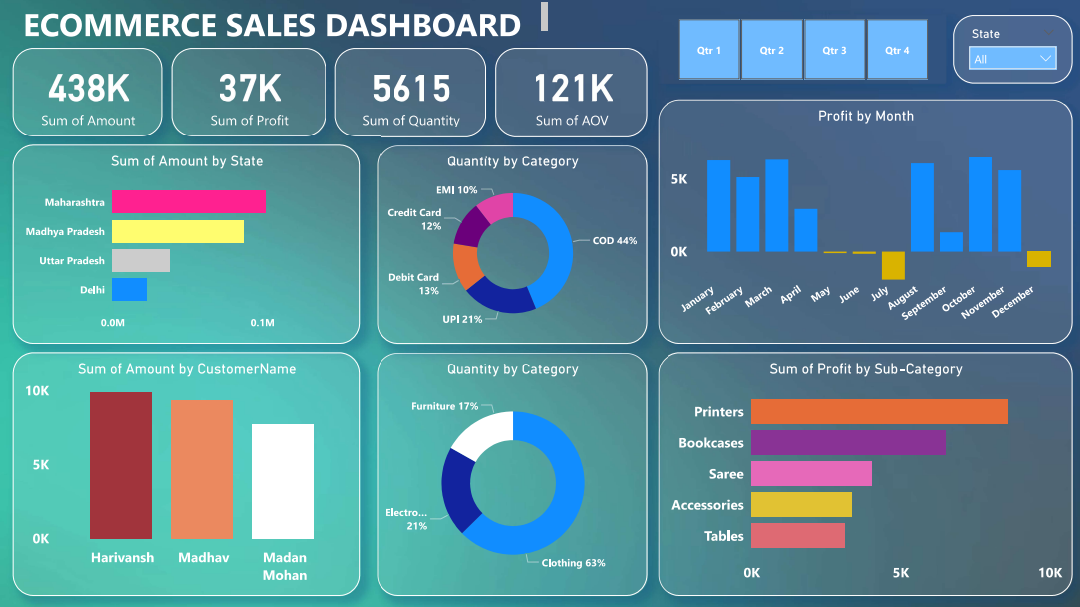

This screenshot's page, from the dashboard's own definition file:
{"tool":"powerbi","page":{"name":"Page 1","canvas":[1280,720],"ordinal":0},"visuals":[{"type":"textbox","box":[0,0,654.3,50],"z":0},{"type":"columnChart","title":"Profit by Month","fields":{"Category":["Orders.Order Date.Variation.Date Hierarchy.Month"],"Y":["Details.Profit"]},"box":[780,120,490,288.6],"z":1000},{"type":"barChart","fields":{"Category":["Details.Sub-Category"],"Y":["Details.Profit"]},"box":[780,418.6,490,288.6],"z":2000},{"type":"donutChart","title":"Quantity by Category","fields":{"Category":["Details.Category"],"Y":["Details.Quantity"]},"box":[447.1,418.6,320,288.6],"z":3000},{"type":"donutChart","title":"Quantity by Category","fields":{"Category":["Details.PaymentMode"],"Y":["Details.Quantity"]},"box":[447.1,172.9,320,235.7],"z":4000},{"type":"card","fields":{"Values":["Details.Amount"]},"box":[15.7,58.6,177.1,105.7],"z":5000},{"type":"card","fields":{"Values":["Details.Profit"]},"box":[204.3,58.6,182.9,105.7],"z":6000},{"type":"card","fields":{"Values":["Details.Quantity"]},"box":[397.1,58.6,178.6,105.7],"z":7000},{"type":"card","fields":{"Values":["Details.AOV"]},"box":[587.1,58.6,180,105.7],"z":8000},{"type":"barChart","fields":{"Category":["Orders.State"],"Y":["Details.Amount"]},"box":[15.7,172.9,411.4,235.7],"z":9000},{"type":"columnChart","fields":{"Category":["Orders.CustomerName"],"Y":["Details.Amount"]},"box":[15.7,418.6,411.4,288.6],"z":10000},{"type":"slicer","fields":{"Values":["Orders.Order Date.Variation.Date Hierarchy.Quarter"]},"box":[780,20,341.4,81.4],"z":11000},{"type":"slicer","fields":{"Values":["Orders.State"]},"box":[1128.6,20,141.4,81.4],"z":11001}]}

Visuals, with their boxes in screenshot pixels (x1, y1, x2, y2), scaled from the page's 1280x720 canvas onto the 1080x607 screenshot:
textbox: box=[0, 0, 552, 42]
"Profit by Month" columnChart: box=[658, 101, 1072, 344]
barChart - Details.Sub-Category x Details.Profit: box=[658, 353, 1072, 596]
"Quantity by Category" donutChart: box=[377, 353, 647, 596]
"Quantity by Category" donutChart: box=[377, 146, 647, 344]
card - Details.Amount: box=[13, 49, 163, 139]
card - Details.Profit: box=[172, 49, 327, 139]
card - Details.Quantity: box=[335, 49, 486, 139]
card - Details.AOV: box=[495, 49, 647, 139]
barChart - Orders.State x Details.Amount: box=[13, 146, 360, 344]
columnChart - Orders.CustomerName x Details.Amount: box=[13, 353, 360, 596]
slicer - Orders.Order Date.Variation.Date Hierarchy.Quarter: box=[658, 17, 946, 85]
slicer - Orders.State: box=[952, 17, 1072, 85]
